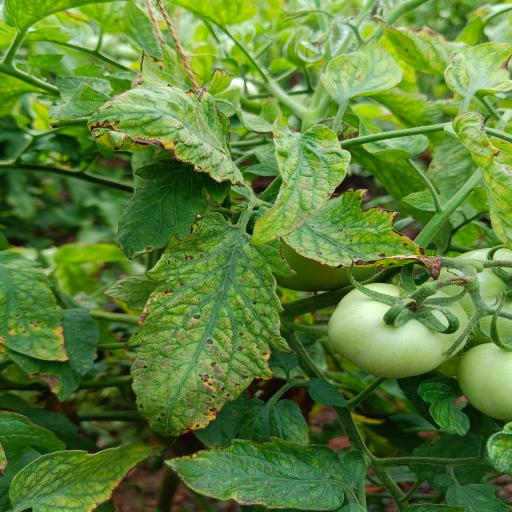Early Blight: (121, 209, 291, 443), (281, 186, 451, 280)
